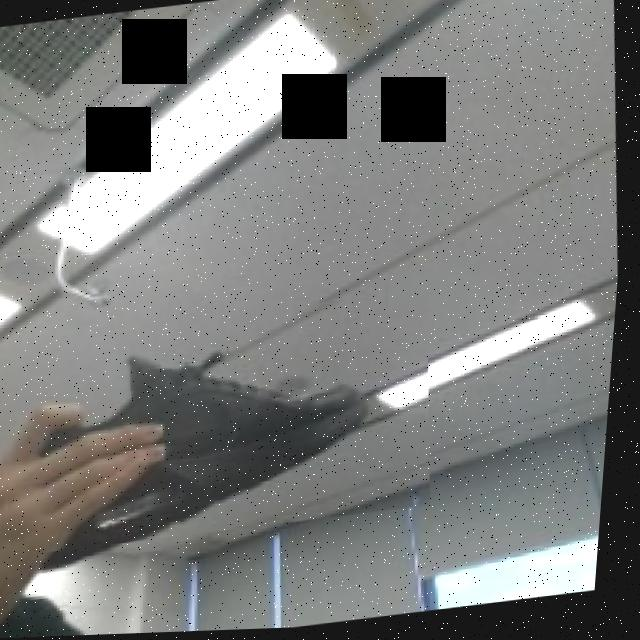shoe: (0, 287, 450, 558)
